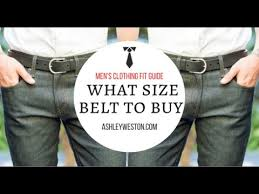F_belt: (153, 42, 259, 83), (2, 43, 104, 78)
